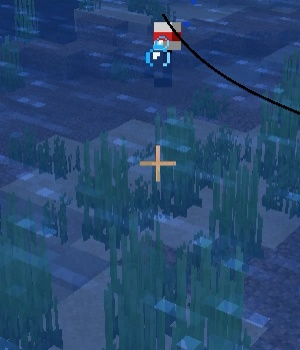up: (144, 12, 185, 87)
